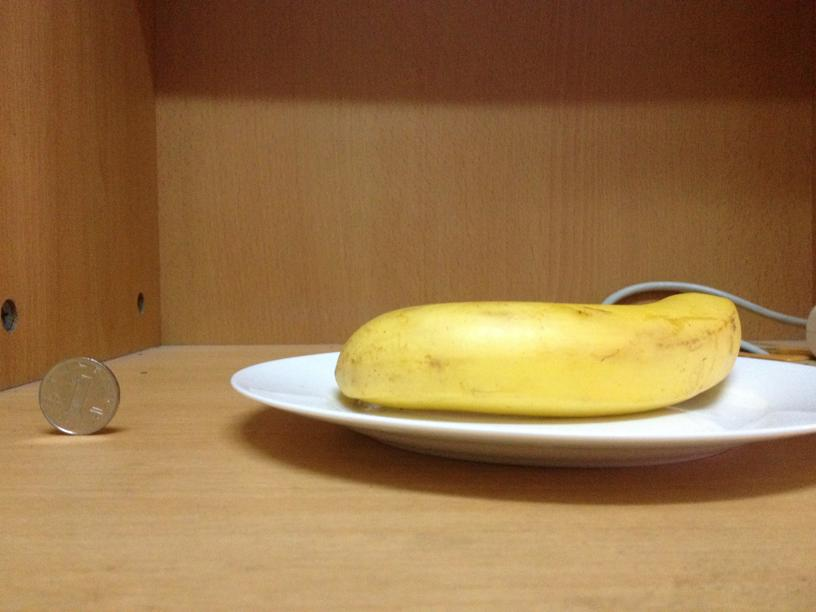banana: (327, 286, 740, 415)
coin: (33, 353, 121, 439)
